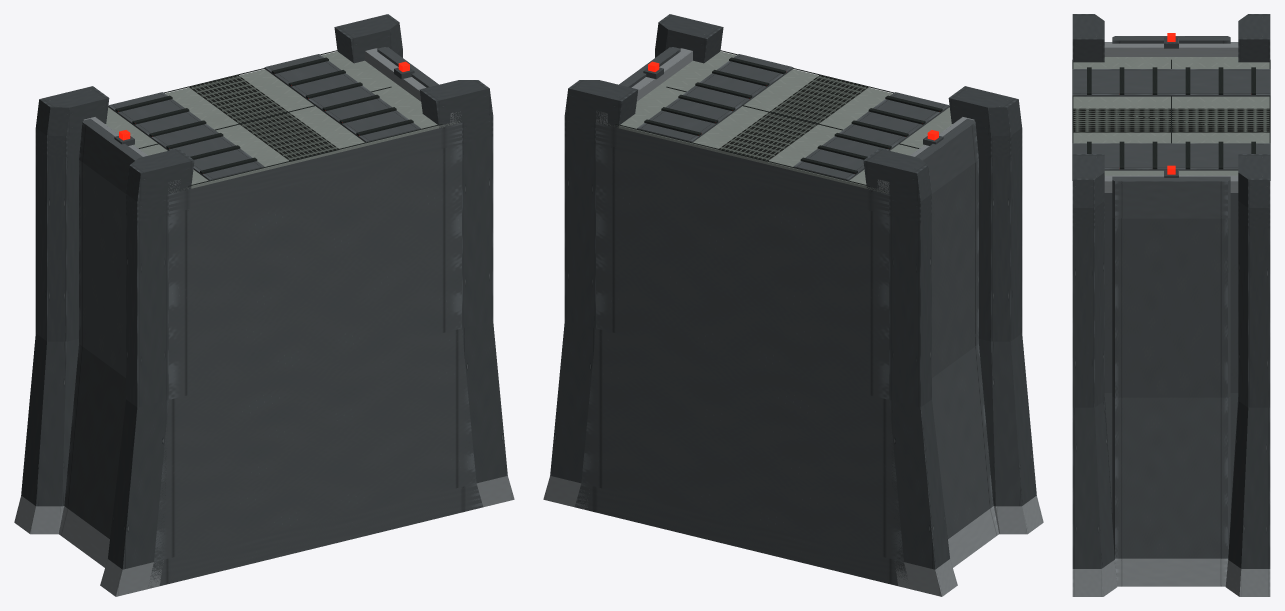
The model's file is half-bay.glb.
3 views of the same model, side by side, from view 1: azimuth 30°, elevation 25°; view 2: azimuth 150°, elevation 25°; view 3: azimuth 270°, elevation 25° (orthographic). The views are drawn at different scales.
Visible parts, largest first — view 1: half-bay-lod0-base0, half-bay-lod0-floor0, half-bay-lod0-roof0; view 2: half-bay-lod0-base0, half-bay-lod0-floor0, half-bay-lod0-roof0; view 3: half-bay-lod0-roof0, half-bay-lod0-base0, half-bay-lod0-floor0.
Boxes of the visible parts, left/top/right/bottom form: half-bay-lod0-base0: left=14, top=321, right=514, bottom=596; half-bay-lod0-floor0: left=35, top=136, right=493, bottom=407; half-bay-lod0-roof0: left=35, top=14, right=493, bottom=223; half-bay-lod0-base0: left=543, top=321, right=1043, bottom=596; half-bay-lod0-floor0: left=564, top=136, right=1022, bottom=407; half-bay-lod0-roof0: left=564, top=14, right=1022, bottom=223; half-bay-lod0-roof0: left=1072, top=14, right=1270, bottom=228; half-bay-lod0-base0: left=1072, top=393, right=1270, bottom=596; half-bay-lod0-floor0: left=1072, top=214, right=1270, bottom=407.
Size of what is drawn, in the model's own units: 40.8 by 40.8 by 18.08.
Materials: 7 (7 with a texture image).
